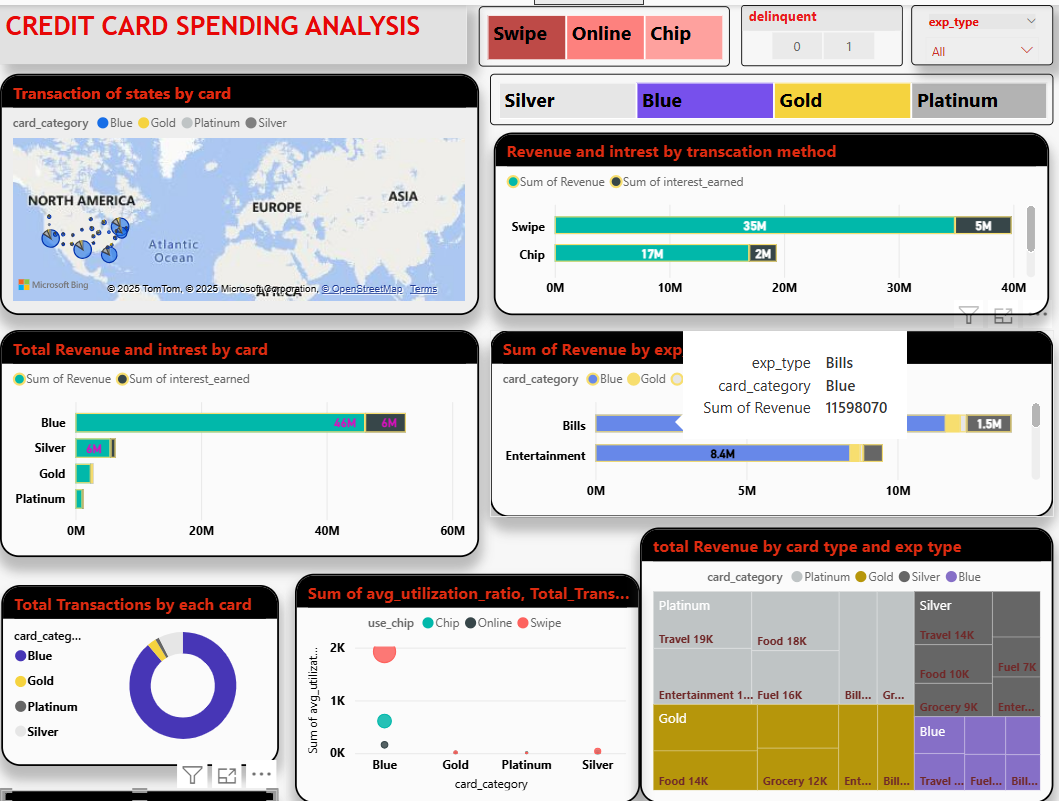

Layout of this report page (visuals, bound fields, positions):
{"tool":"powerbi","page":{"name":"Spending report","canvas":[950,860],"ordinal":1},"visuals":[{"type":"treemap","fields":{"Group":["public credit_card_detail.card_category"],"Values":["Avg(public credit_card_detail.client_num)"]},"box":[441.7,61.7,508.3,46.7],"z":0},{"type":"slicer","fields":{"Values":["public credit_card_detail.exp_type"]},"box":[821.8,0,128.2,54.5],"z":1000},{"type":"textbox","box":[0,0,299.9,54],"z":2000},{"type":"textbox","box":[0,0,421.1,54],"z":3000},{"type":"treemap","fields":{"Group":["public credit_card_detail.use_chip"],"Values":["Avg(public credit_card_detail.client_num)"]},"box":[431.8,0.9,226.4,54.5],"z":4000},{"type":"map","title":"Transaction of states by card","fields":{"Category":["public customer_detail.state_cd"],"Size":["public credit_card_detail.Total Transactions"],"Series":["public credit_card_detail.card_category"]},"box":[0,61.8,431.8,239.1],"z":5000},{"type":"barChart","title":"Total Revenue and intrest by card","fields":{"Category":["public credit_card_detail.card_category","public credit_card_detail.qtr"],"Y":["Sum(public credit_card_detail.Revenue)","Sum(public credit_card_detail.interest_earned)"]},"box":[0,306.8,431.7,205.4],"z":6000},{"type":"barChart","fields":{"Category":["public credit_card_detail.exp_type"],"Y":["Sum(public credit_card_detail.Revenue)"],"Series":["public credit_card_detail.card_category"]},"box":[441.7,300.8,508.3,211.7],"z":7000},{"type":"barChart","title":"Revenue and intrest by transcation method","fields":{"Y":["Sum(public credit_card_detail.Revenue)","Sum(public credit_card_detail.interest_earned)"],"Category":["public credit_card_detail.use_chip"]},"box":[445,115,500.8,178.3],"z":8000},{"type":"donutChart","title":"Total Transactions by each card","fields":{"Series":["public credit_card_detail.card_category"],"Y":["Sum(public credit_card_detail.total_trans_ct)"]},"box":[0,523.1,249.8,163.8],"z":9000},{"type":"pieChart","title":"Total Revenue by Transaction","fields":{"Category":["public credit_card_detail.use_chip"],"Y":["Sum(public credit_card_detail.Revenue)"]},"box":[0,691.8,249.5,167.2],"z":10000},{"type":"scatterChart","fields":{"X":["public credit_card_detail.card_category"],"Y":["Sum(public credit_card_detail.avg_utilization_ratio)"],"Size":["public credit_card_detail.Total_Transaction_Count"],"Series":["public credit_card_detail.use_chip"]},"box":[259.2,523.7,311.4,336.2],"z":11000},{"type":"treemap","title":"total Revenue by card type and exp type","fields":{"Group":["public credit_card_detail.card_category"],"Details":["public credit_card_detail.exp_type"],"Values":["Avg(public credit_card_detail.Revenue)"]},"box":[576.8,522.9,373.3,337.1],"z":12000},{"type":"slicer","title":"delinquent","fields":{"Values":["public credit_card_detail.delinquent_acc"]},"box":[668.6,0,145.5,55],"z":13000}]}

Visuals, with their boxes on the page's 950x860 design canvas (x1, y1, x2, y2). These are canvas units, not pixel positions in the 1059x801 screenshot, which may show the page scaled, cropped or inside an application window:
treemap - public credit_card_detail.card_category x Avg(public credit_card_detail.client_num): detection(442, 62, 950, 108)
slicer - public credit_card_detail.exp_type: detection(822, 0, 950, 54)
textbox: detection(0, 0, 300, 54)
textbox: detection(0, 0, 421, 54)
treemap - public credit_card_detail.use_chip x Avg(public credit_card_detail.client_num): detection(432, 1, 658, 55)
"Transaction of states by card" map: detection(0, 62, 432, 301)
"Total Revenue and intrest by card" barChart: detection(0, 307, 432, 512)
barChart - public credit_card_detail.exp_type x Sum(public credit_card_detail.Revenue): detection(442, 301, 950, 512)
"Revenue and intrest by transcation method" barChart: detection(445, 115, 946, 293)
"Total Transactions by each card" donutChart: detection(0, 523, 250, 687)
"Total Revenue by Transaction" pieChart: detection(0, 692, 250, 859)
scatterChart - public credit_card_detail.card_category x Sum(public credit_card_detail.avg_utilization_ratio): detection(259, 524, 571, 860)
"total Revenue by card type and exp type" treemap: detection(577, 523, 950, 860)
"delinquent" slicer: detection(669, 0, 814, 55)
